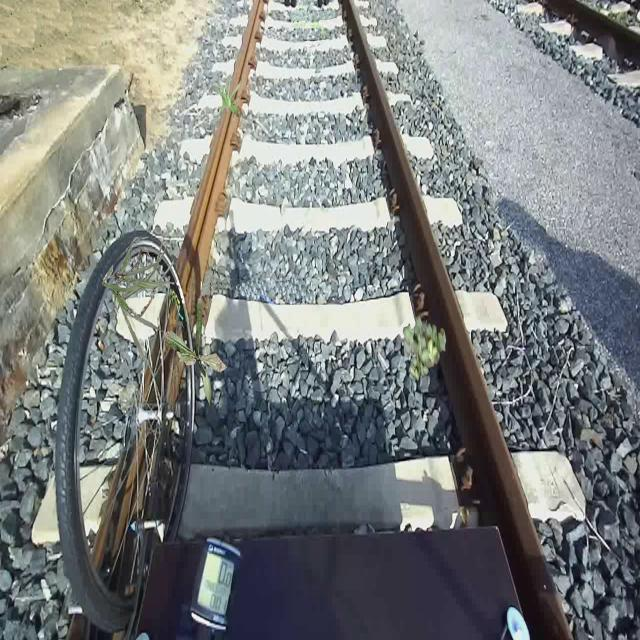Plant: (102, 237, 175, 362), (164, 298, 228, 410), (403, 315, 446, 382), (210, 73, 242, 119)
